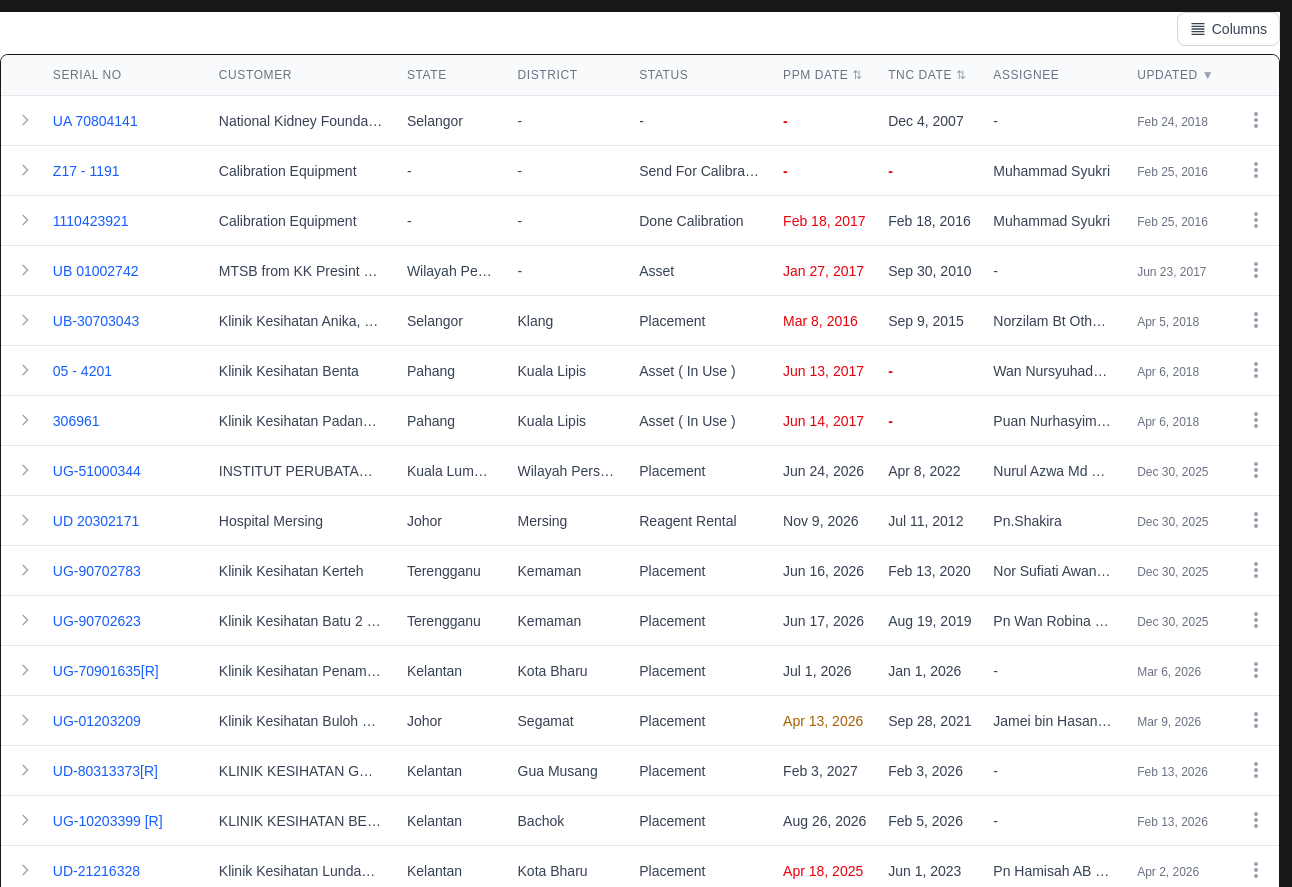
Test: RecordsTable › with realistic production data › surfaces the PPM status label in the expanded row detail
Click the button named "Toggle row details" next to "UA 70804141".
click(25, 120)  # box [13,108,37,132]
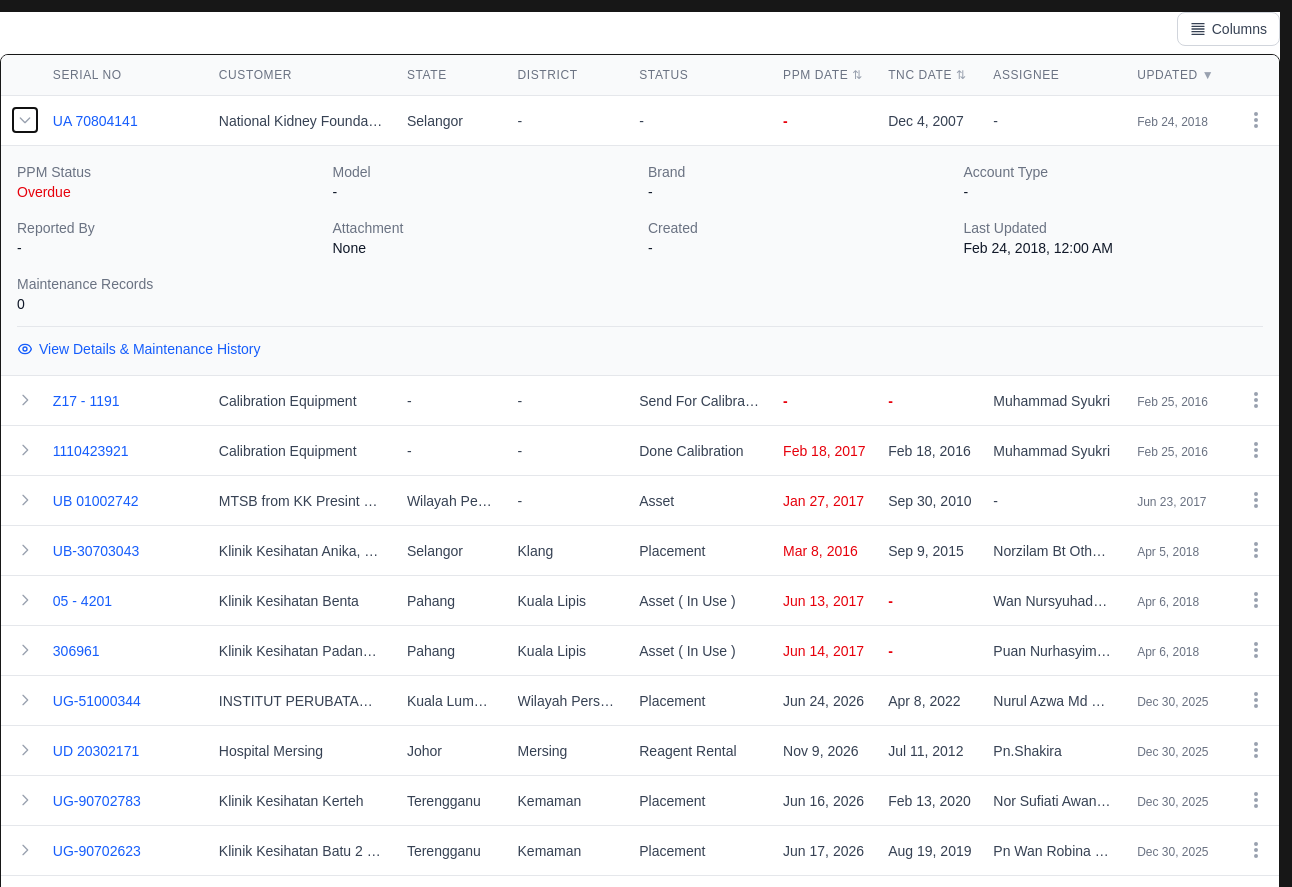
Result: the text "PPM Status" is shown at [17,164,91,180]
Result: the text "Overdue" is shown at [17,184,71,200]
